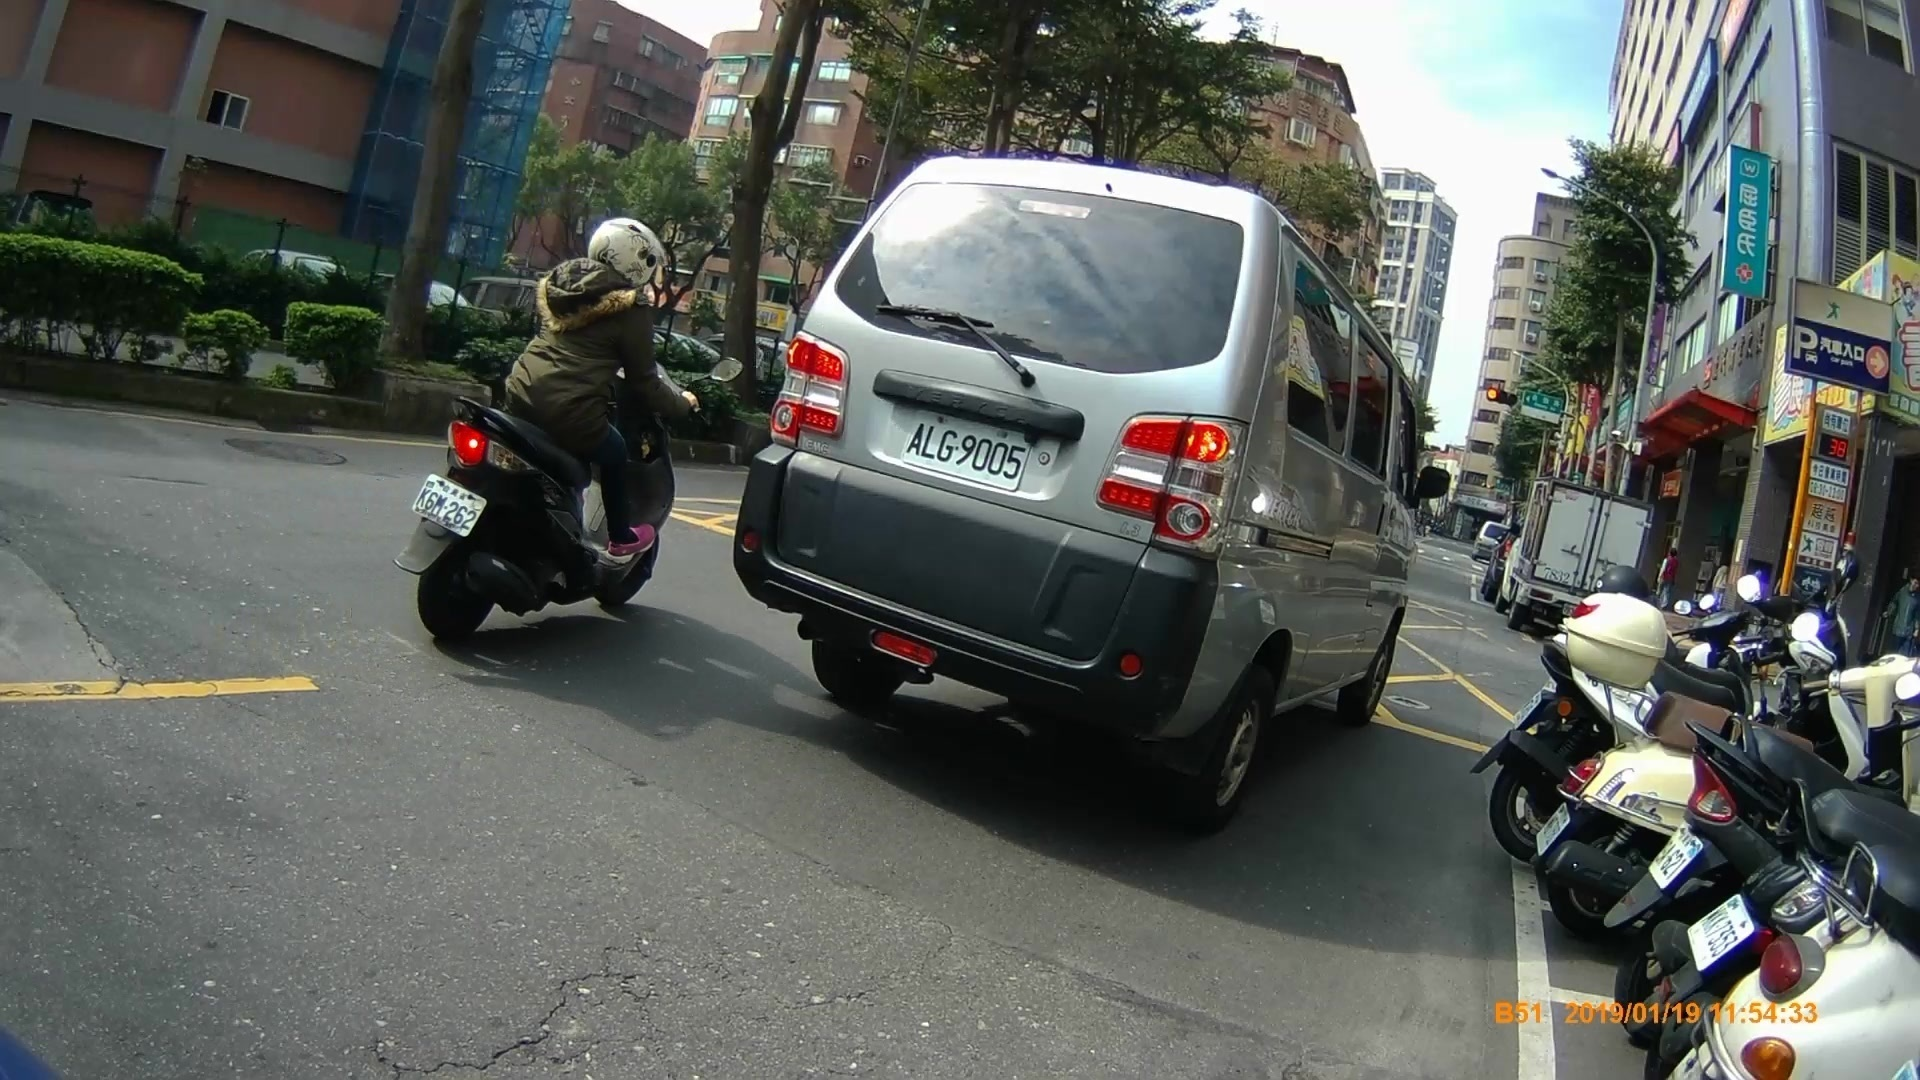License_plate: (899, 406, 1032, 498), (410, 466, 490, 547)
